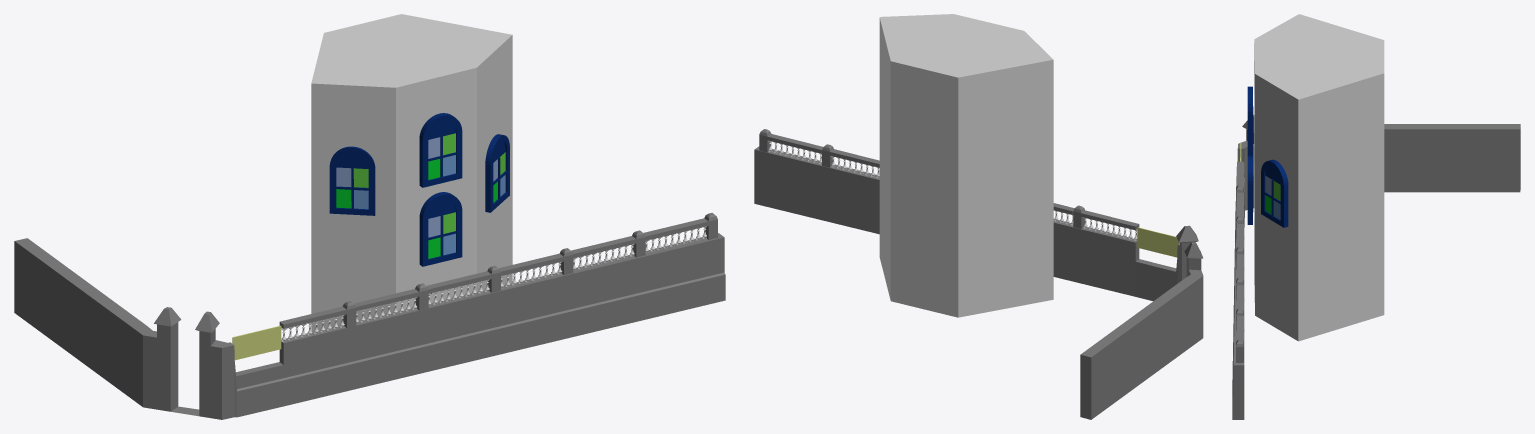
The model's file is mini jogo torre parede furada2.fbx.
The picture shows the model from 3 angles, left to right: view 1: azimuth 30°, elevation 25°; view 2: azimuth 150°, elevation 25°; view 3: azimuth 270°, elevation 25°; orthographic projection. The views are drawn at different scales.
Parts seen in each view (by area): view 1: Cube_111, Cylinder_030, Cylinder_001, Cube_107, Cube_108, Cube_109; view 2: Cylinder_030, Cube_111, Cube_107, Cube_108, Cube_109; view 3: Cylinder_030, Cube_111, Cylinder_001, Cube_107.
Boxes of the visible parts, left/top/right/bottom form: Cube_111: left=14, top=233, right=725, bottom=419; Cylinder_030: left=311, top=14, right=512, bottom=331; Cylinder_001: left=329, top=113, right=509, bottom=266; Cube_107: left=279, top=213, right=717, bottom=328; Cube_108: left=281, top=226, right=706, bottom=341; Cube_109: left=232, top=325, right=281, bottom=360; Cylinder_030: left=879, top=14, right=1053, bottom=317; Cube_111: left=754, top=146, right=1203, bottom=419; Cube_107: left=759, top=129, right=1139, bottom=230; Cube_108: left=768, top=140, right=1137, bottom=240; Cube_109: left=1137, top=227, right=1179, bottom=257; Cylinder_030: left=1254, top=14, right=1384, bottom=341; Cube_111: left=1232, top=115, right=1520, bottom=419; Cylinder_001: left=1247, top=86, right=1288, bottom=227; Cube_107: left=1236, top=161, right=1244, bottom=362.
Bounding box in the file's own units: 27.52 × 13.51 × 14.39.
